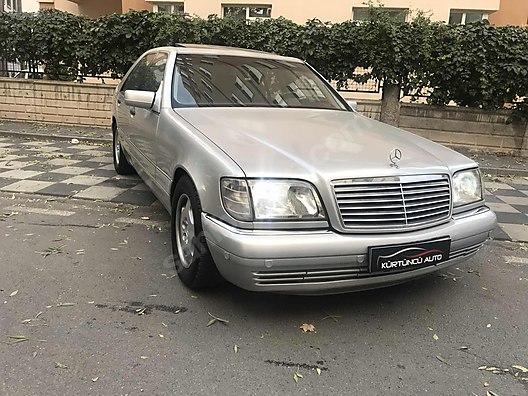m: (108, 32, 505, 308)
